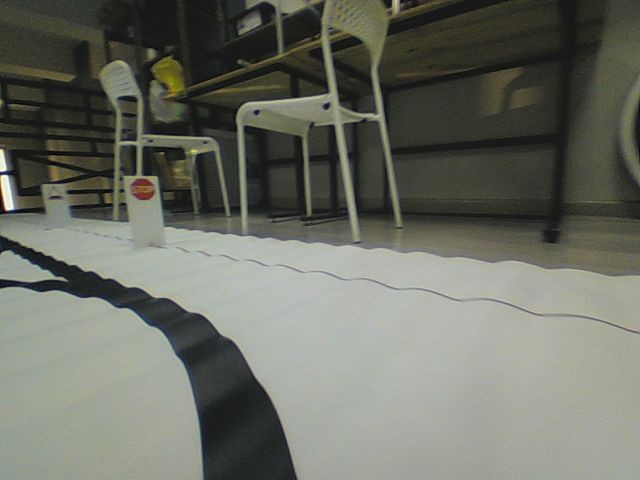Stop: (129, 177, 155, 201)
